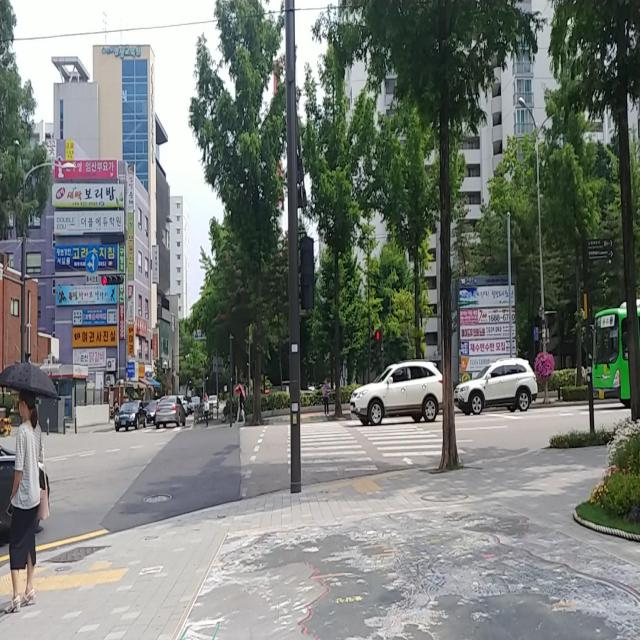빨간불: (376, 327, 383, 361)
횡단보도: (286, 417, 466, 476)
